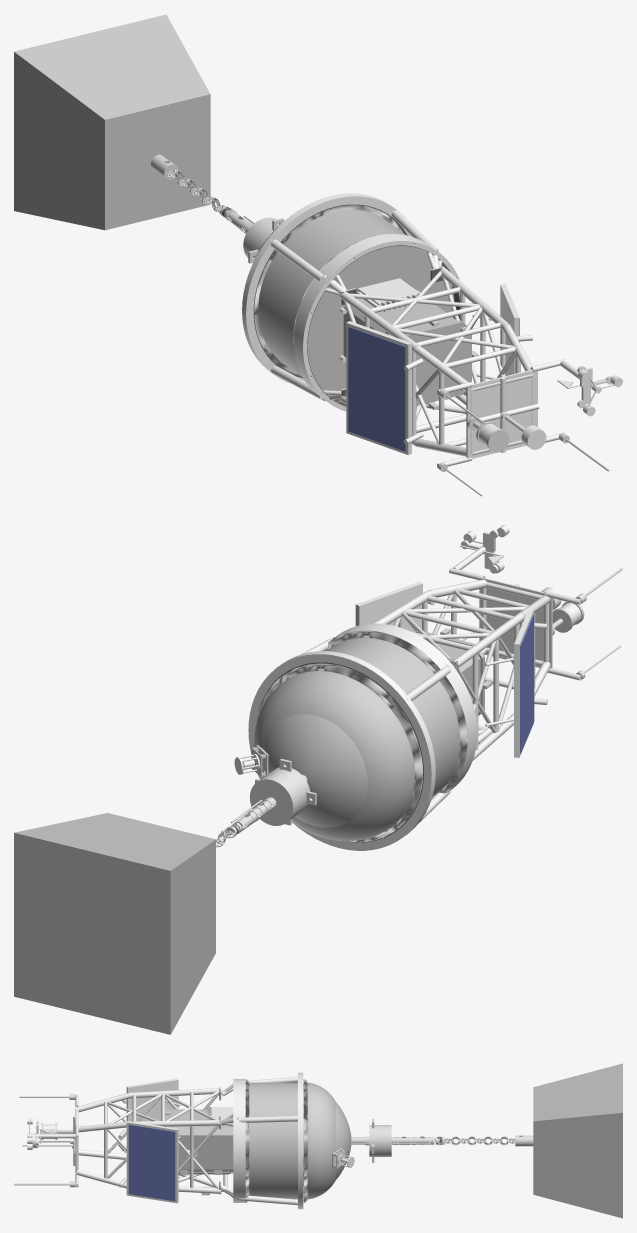
The model's file is PROJECT-FALCON-V2-DjKqp_bE.glb.
The picture shows the model from 3 angles, top to bottom: view 1: azimuth 30°, elevation 25°; view 2: azimuth 150°, elevation 25°; view 3: azimuth 270°, elevation 25°; orthographic projection. The views are drawn at different scales.
Visible parts, largest first — view 1: ANCHOR_REINFORCED_CONCRETE_BODY, MAIN_FLOAT_TRADITIONAL_V2_HDPE_BODY, TOP_CAP_HDPE_BODY, DUAL_SOLAR_02_MONOCRYSTALLINE_FACE, SPLIT_CLAMP_BAND_6061, TOP_SENSOR_PLATFORM_6061, LOWER_SPLIT_COLLAR_6061, TOP_SERVICE_LID_HDPE, RECT_POD_8MM_HOLLOW_WALL, DUAL_SOLAR_02_ALUMINUM_FRAME, MAIN_FLOAT_LOWER_ROUNDED_FAIRING_HDPE_BODY, BALLAST_316SS_CORE (+4 smaller); view 2: ANCHOR_REINFORCED_CONCRETE_BODY, MAIN_FLOAT_TRADITIONAL_V2_HDPE_BODY, LOWER_SPLIT_COLLAR_6061, BALLAST_316SS_CORE, MAIN_FLOAT_LOWER_ROUNDED_FAIRING_HDPE_BODY, SPLIT_CLAMP_BAND_6061, TOP_SENSOR_PLATFORM_6061, MAIN_FLOAT_UPPER_ROUNDED_FAIRING_HDPE_BODY, DUAL_SOLAR_02_MONOCRYSTALLINE_FACE, DUAL_SOLAR_01_ALUMINUM_FRAME, DUAL_SOLAR_02_ALUMINUM_FRAME, WIND_SENSOR_BODY (+1 smaller); view 3: ANCHOR_REINFORCED_CONCRETE_BODY, MAIN_FLOAT_TRADITIONAL_V2_HDPE_BODY, DUAL_SOLAR_01_MONOCRYSTALLINE_FACE, RECT_POD_8MM_HOLLOW_WALL, SPLIT_CLAMP_BAND_6061, DUAL_SOLAR_02_ALUMINUM_FRAME, DUAL_SOLAR_01_ALUMINUM_FRAME, LOWER_SPLIT_COLLAR_6061, BALLAST_316SS_CORE, MAIN_FLOAT_LOWER_ROUNDED_FAIRING_HDPE_BODY, MAIN_FLOAT_UPPER_ROUNDED_FAIRING_HDPE_BODY, MAST_NW_LOWER_POD_LEG_6061 (+12 smaller).
Boxes of the visible parts, <box> form: ANCHOR_REINFORCED_CONCRETE_BODY: <box>14,14,210,230</box>; MAIN_FLOAT_TRADITIONAL_V2_HDPE_BODY: <box>255,209,454,376</box>; TOP_CAP_HDPE_BODY: <box>307,246,452,403</box>; DUAL_SOLAR_02_MONOCRYSTALLINE_FACE: <box>348,326,405,451</box>; SPLIT_CLAMP_BAND_6061: <box>293,234,459,411</box>; TOP_SENSOR_PLATFORM_6061: <box>466,369,537,458</box>; LOWER_SPLIT_COLLAR_6061: <box>242,193,412,383</box>; TOP_SERVICE_LID_HDPE: <box>404,320,471,405</box>; RECT_POD_8MM_HOLLOW_WALL: <box>343,298,456,357</box>; DUAL_SOLAR_02_ALUMINUM_FRAME: <box>346,321,411,454</box>; MAIN_FLOAT_LOWER_ROUNDED_FAIRING_HDPE_BODY: <box>254,205,402,374</box>; BALLAST_316SS_CORE: <box>243,217,284,263</box>; ANCHOR_REINFORCED_CONCRETE_BODY: <box>14,813,215,1034</box>; MAIN_FLOAT_TRADITIONAL_V2_HDPE_BODY: <box>253,637,460,841</box>; LOWER_SPLIT_COLLAR_6061: <box>248,651,435,850</box>; BALLAST_316SS_CORE: <box>249,758,316,825</box>; MAIN_FLOAT_LOWER_ROUNDED_FAIRING_HDPE_BODY: <box>257,663,423,842</box>; SPLIT_CLAMP_BAND_6061: <box>329,623,477,792</box>; TOP_SENSOR_PLATFORM_6061: <box>479,578,552,668</box>; MAIN_FLOAT_UPPER_ROUNDED_FAIRING_HDPE_BODY: <box>327,630,467,797</box>; DUAL_SOLAR_02_MONOCRYSTALLINE_FACE: <box>520,614,534,753</box>; DUAL_SOLAR_01_ALUMINUM_FRAME: <box>355,581,422,632</box>; DUAL_SOLAR_02_ALUMINUM_FRAME: <box>514,609,533,757</box>; WIND_SENSOR_BODY: <box>453,530,498,573</box>; ANCHOR_REINFORCED_CONCRETE_BODY: <box>533,1063,622,1218</box>; MAIN_FLOAT_TRADITIONAL_V2_HDPE_BODY: <box>249,1082,351,1199</box>; DUAL_SOLAR_01_MONOCRYSTALLINE_FACE: <box>128,1124,175,1201</box>; RECT_POD_8MM_HOLLOW_WALL: <box>168,1109,233,1171</box>; SPLIT_CLAMP_BAND_6061: <box>233,1079,245,1202</box>; DUAL_SOLAR_02_ALUMINUM_FRAME: <box>126,1078,178,1121</box>; DUAL_SOLAR_01_ALUMINUM_FRAME: <box>126,1121,178,1203</box>; LOWER_SPLIT_COLLAR_6061: <box>298,1072,303,1209</box>; BALLAST_316SS_CORE: <box>365,1119,391,1162</box>; MAIN_FLOAT_LOWER_ROUNDED_FAIRING_HDPE_BODY: <box>303,1079,307,1202</box>; MAIN_FLOAT_UPPER_ROUNDED_FAIRING_HDPE_BODY: <box>245,1079,249,1202</box>; MAST_NW_LOWER_POD_LEG_6061: <box>129,1088,220,1098</box>.
Size of the model in its own units: 0.76 by 0.76 by 3.39.
